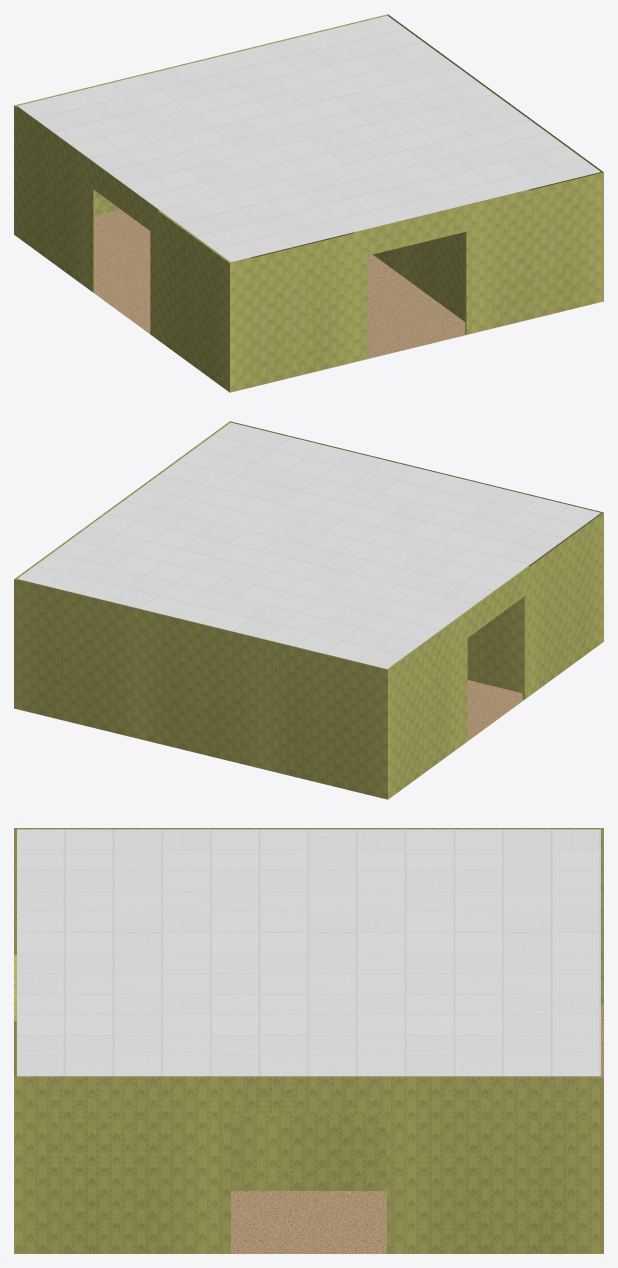
File: 3exitweird.glb
The picture shows the model from 3 angles, top to bottom: view 1: azimuth 30°, elevation 25°; view 2: azimuth 150°, elevation 25°; view 3: azimuth 270°, elevation 25°; orthographic projection. The views are drawn at different scales.
Parts seen in each view (by area): view 1: 3exitweird; view 2: 3exitweird; view 3: 3exitweird.
Boxes of the visible parts, left/top/right/bottom form: 3exitweird: left=14, top=14, right=603, bottom=392; 3exitweird: left=14, top=421, right=603, bottom=799; 3exitweird: left=14, top=828, right=603, bottom=1253.
Size of what is drawn, in the model's own units: 15.15 by 5 by 15.15.
3 materials, 3 textured.
